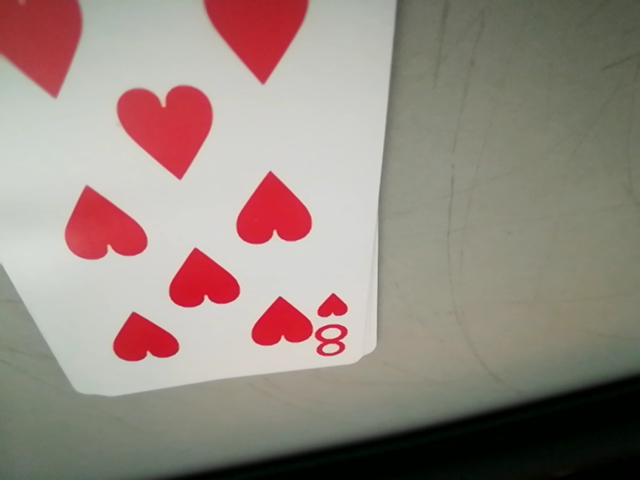hx 8: (312, 289, 360, 358)
